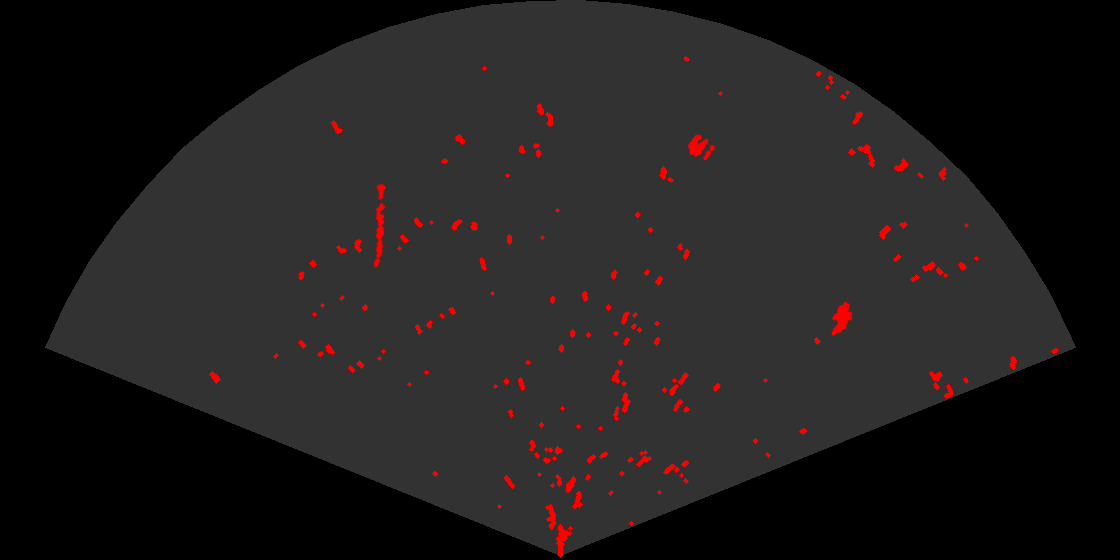AUV: (829, 300, 854, 338)
ball: (686, 133, 717, 162)
chain: (372, 183, 388, 269)
